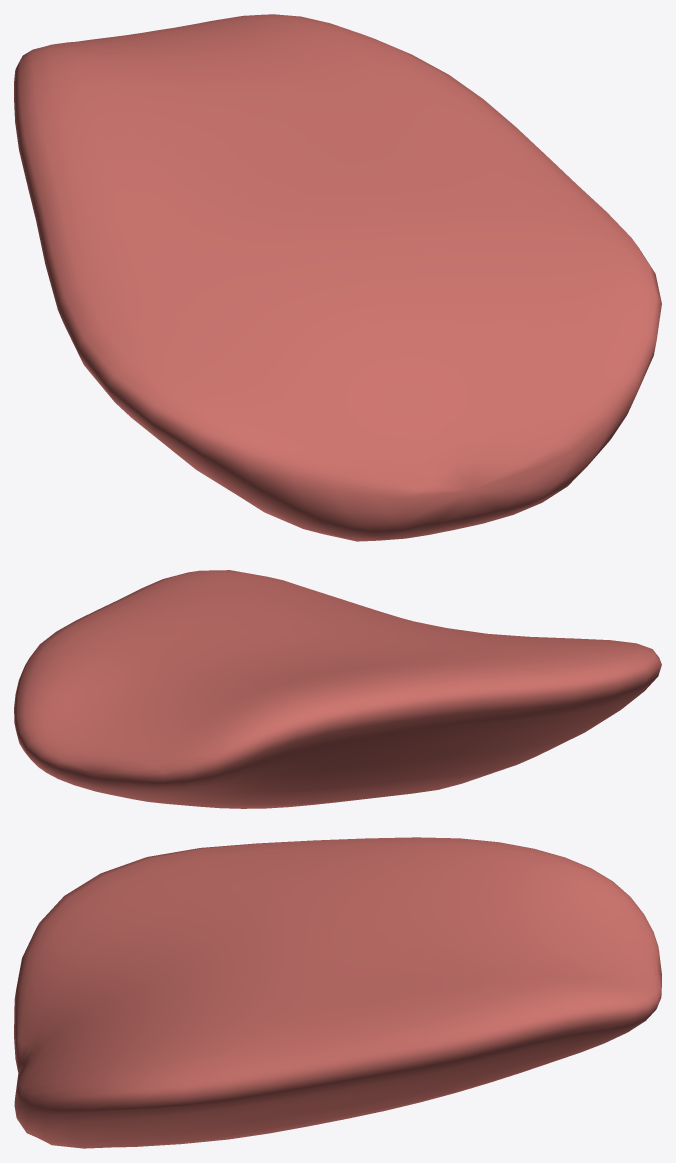
3 renders of one model, top to bottom at view 1: azimuth 30°, elevation 25°; view 2: azimuth 150°, elevation 25°; view 3: azimuth 270°, elevation 25°, orthographic. The views are drawn at different scales.
Parts seen in each view (by area): view 1: 右侧胫骨粗隆皮下囊; view 2: 右侧胫骨粗隆皮下囊; view 3: 右侧胫骨粗隆皮下囊.
Boxes of the visible parts, <box> form: 右侧胫骨粗隆皮下囊: <box>14,14,661,541</box>; 右侧胫骨粗隆皮下囊: <box>14,570,661,808</box>; 右侧胫骨粗隆皮下囊: <box>14,837,661,1148</box>.
Size of the model in its own units: 0.0274 by 0.013 by 0.0337.
